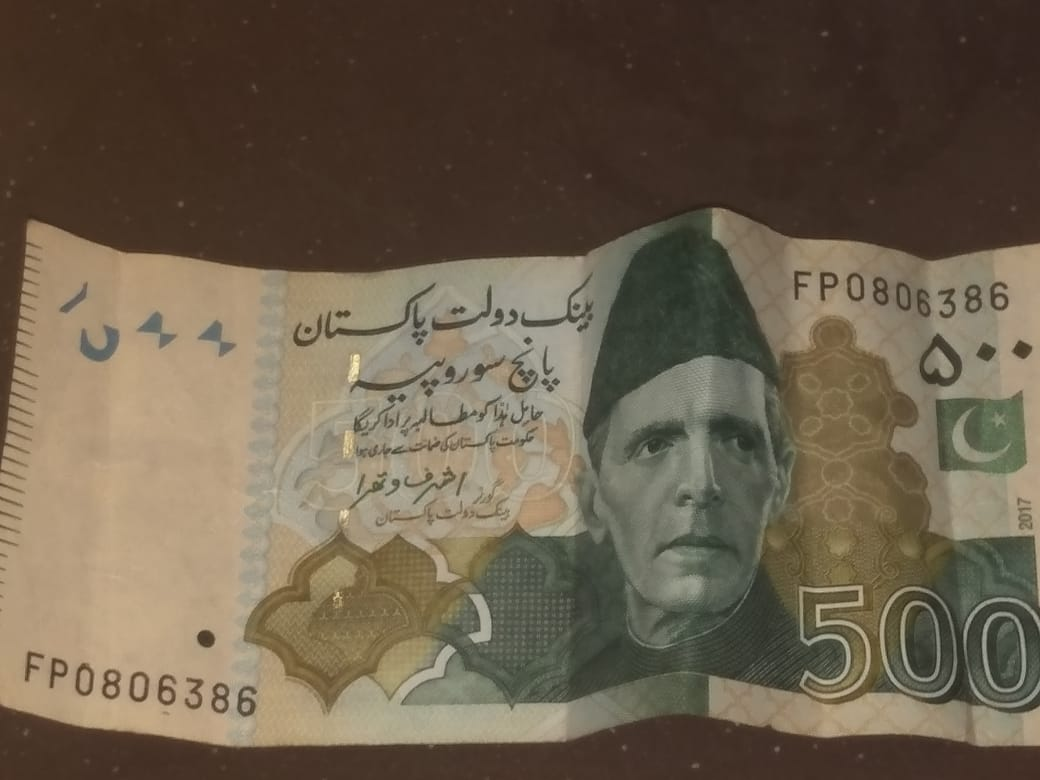500 rupee: (22, 211, 1040, 767)
